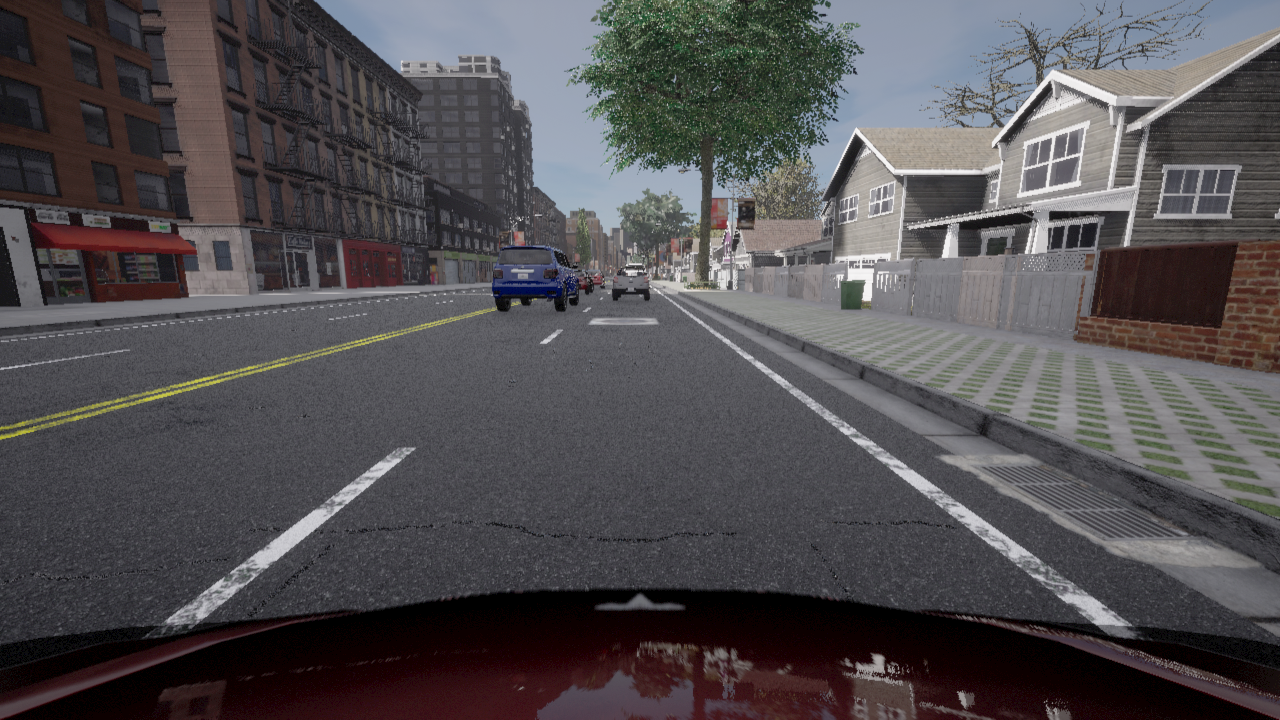cyclist: (0, 588, 1279, 719), (492, 245, 578, 311), (612, 267, 651, 300), (572, 269, 593, 293), (586, 270, 604, 288), (625, 264, 648, 276)
